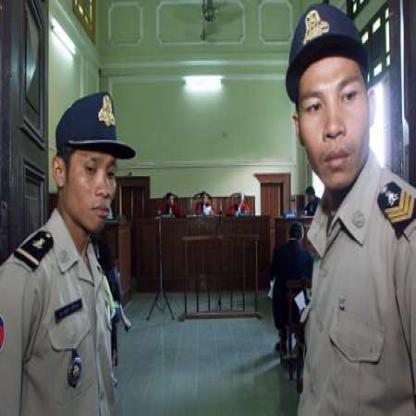face: (298, 9, 370, 191), (65, 102, 124, 233)
